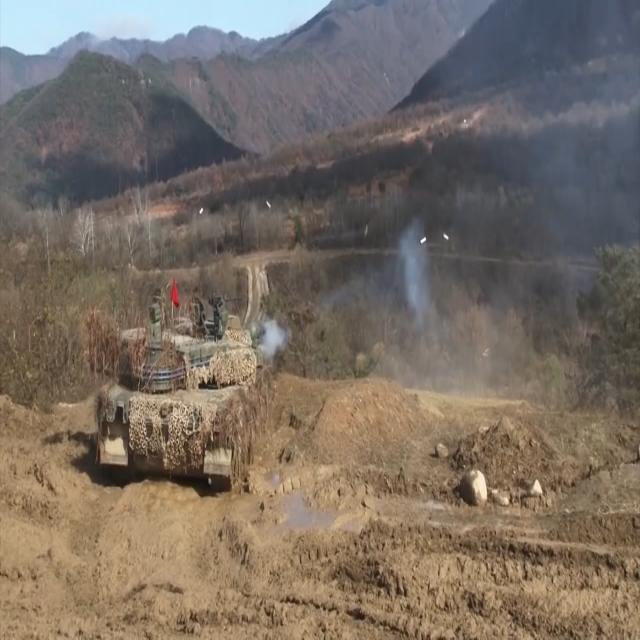korea tank: (85, 292, 318, 497)
